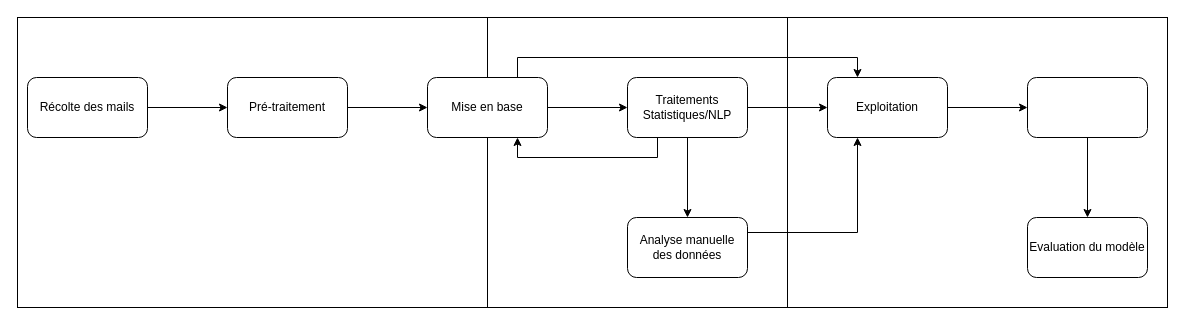
Some shapes in this 1185 by 325 pixel diagram are drawn without their labels. The box of each missing label's shape, as (x1, y1, x2, y2) in pixels:
Création d'un modèle IA: (1026, 76, 1148, 138)
PHASE 1: (16, 16, 488, 308)
PHASE 2: (486, 16, 788, 308)
PHASE 3: (786, 16, 1168, 308)
